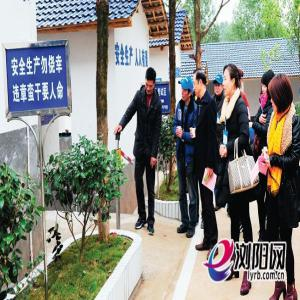blue: (180, 74, 195, 104), (213, 72, 225, 99)
none: (268, 72, 294, 120), (223, 62, 241, 100), (260, 70, 276, 103), (192, 68, 208, 100), (145, 66, 158, 98)
